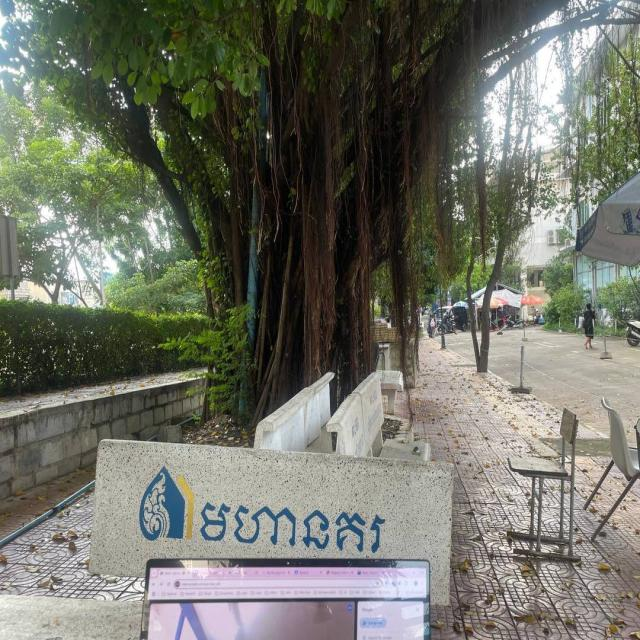Yolov11_80vkh: (195, 490, 386, 557)
